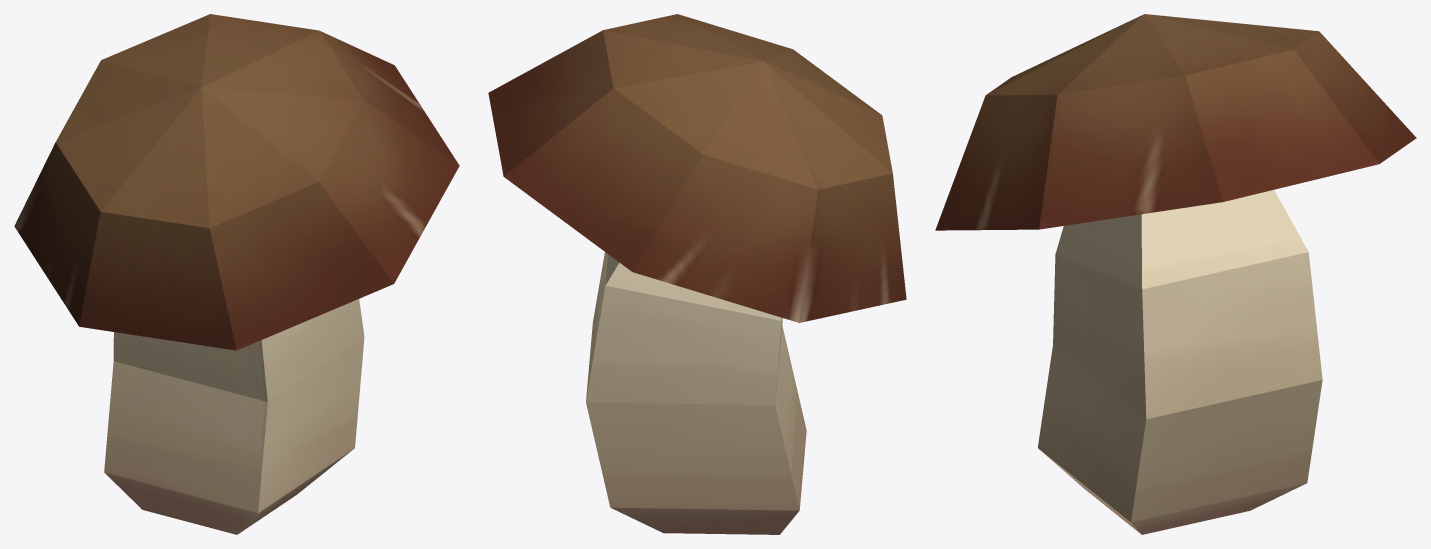
File: ceps-7.glb
3 views of the same model, side by side, from view 1: azimuth 30°, elevation 25°; view 2: azimuth 150°, elevation 25°; view 3: azimuth 270°, elevation 25° (orthographic). The views are drawn at different scales.
Visible parts, largest first — view 1: ceps_7; view 2: ceps_7; view 3: ceps_7.
Part boxes in pixels (bbox=[...]): ceps_7: bbox=[14, 14, 459, 534]; ceps_7: bbox=[488, 14, 906, 534]; ceps_7: bbox=[935, 14, 1416, 534].
Size of the model in its own units: 2.4 by 2.81 by 2.54.
Materials: 1 (1 with a texture image).
